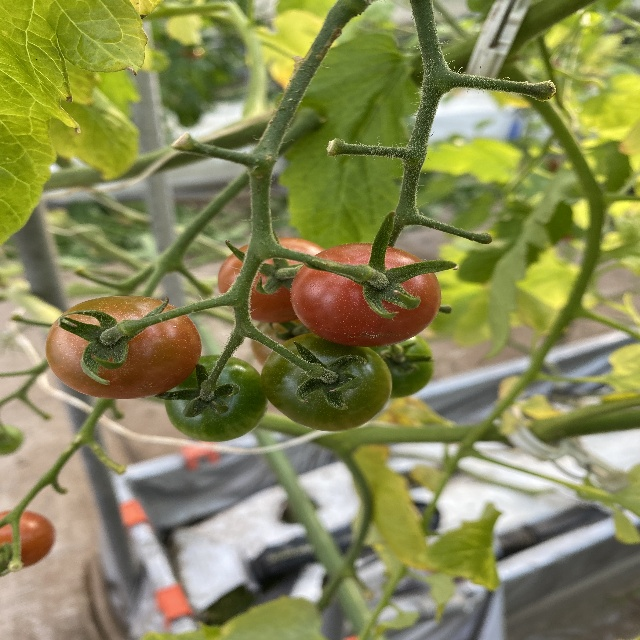l_fully_ripened: (290, 241, 443, 347), (216, 237, 327, 323)
l_green: (262, 332, 392, 432), (164, 353, 269, 441), (369, 334, 436, 398)
l_half_ripened: (44, 295, 202, 399)
